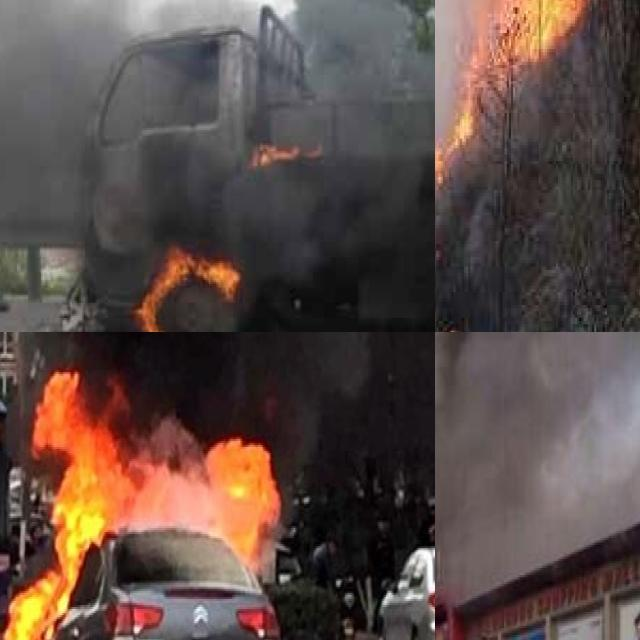fire: (0, 355, 279, 640), (129, 236, 251, 332), (457, 0, 602, 71), (242, 126, 321, 181), (435, 96, 472, 183)
smoke: (0, 0, 435, 264), (435, 332, 640, 640), (435, 0, 566, 332), (10, 332, 388, 365)
